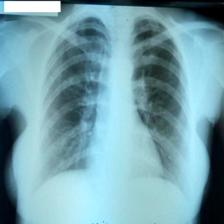tuberculosis: (30, 14, 193, 194)
